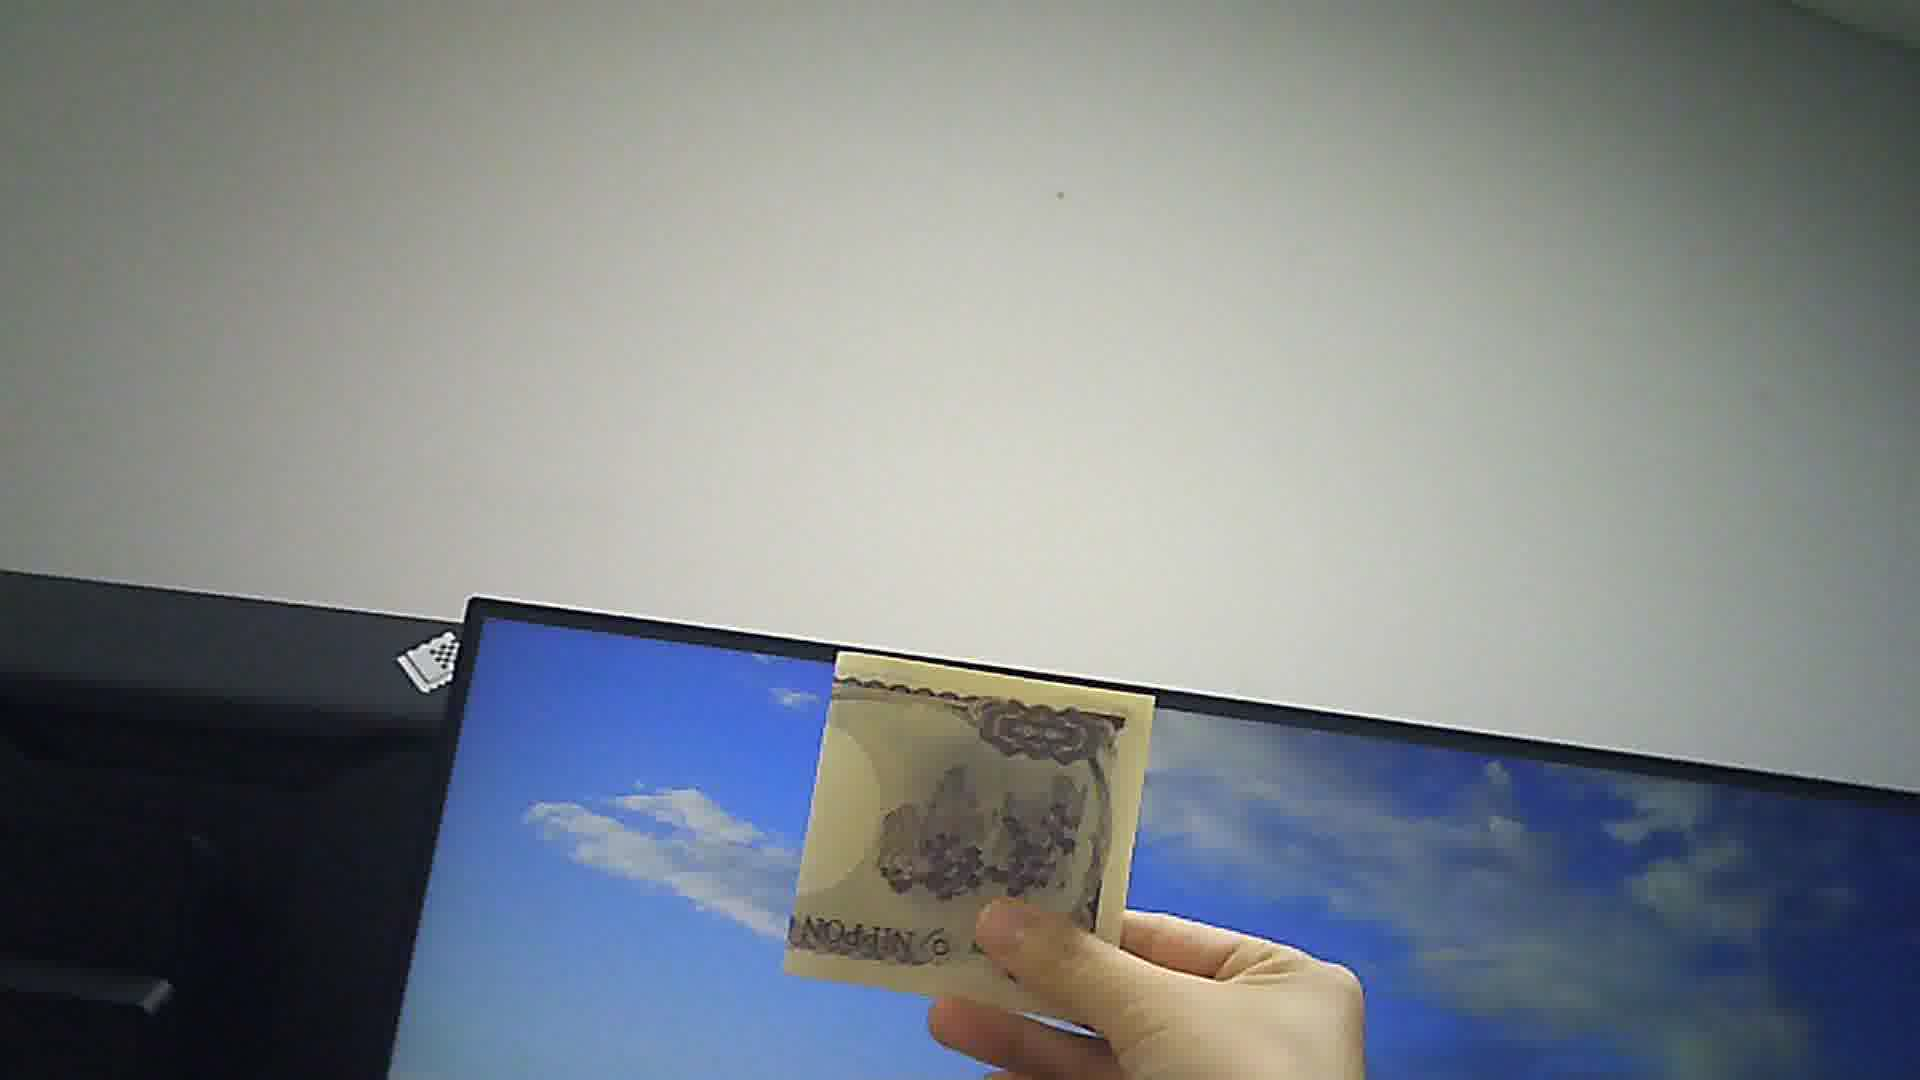5,000 Yen: (785, 636, 1156, 1010)
